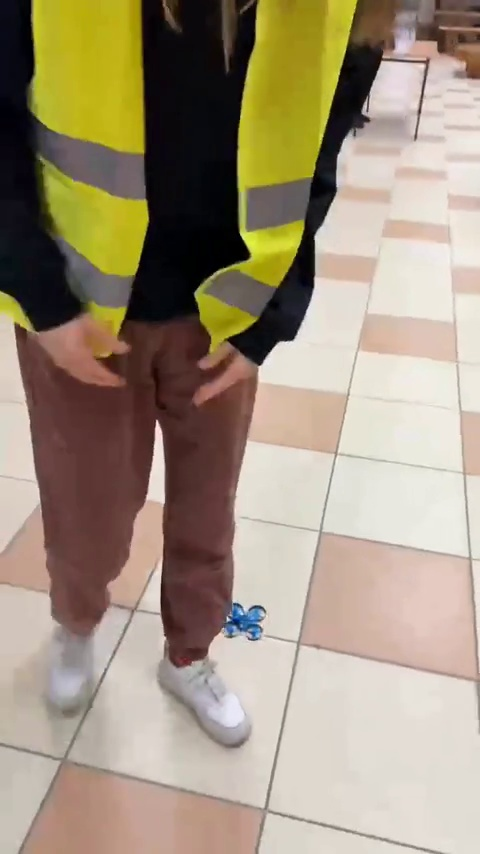drone: (221, 598, 270, 643)
vest: (3, 0, 386, 761)
